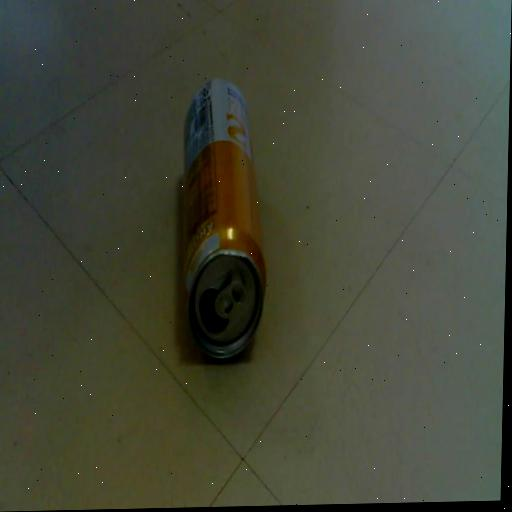canned: (173, 61, 282, 373)
